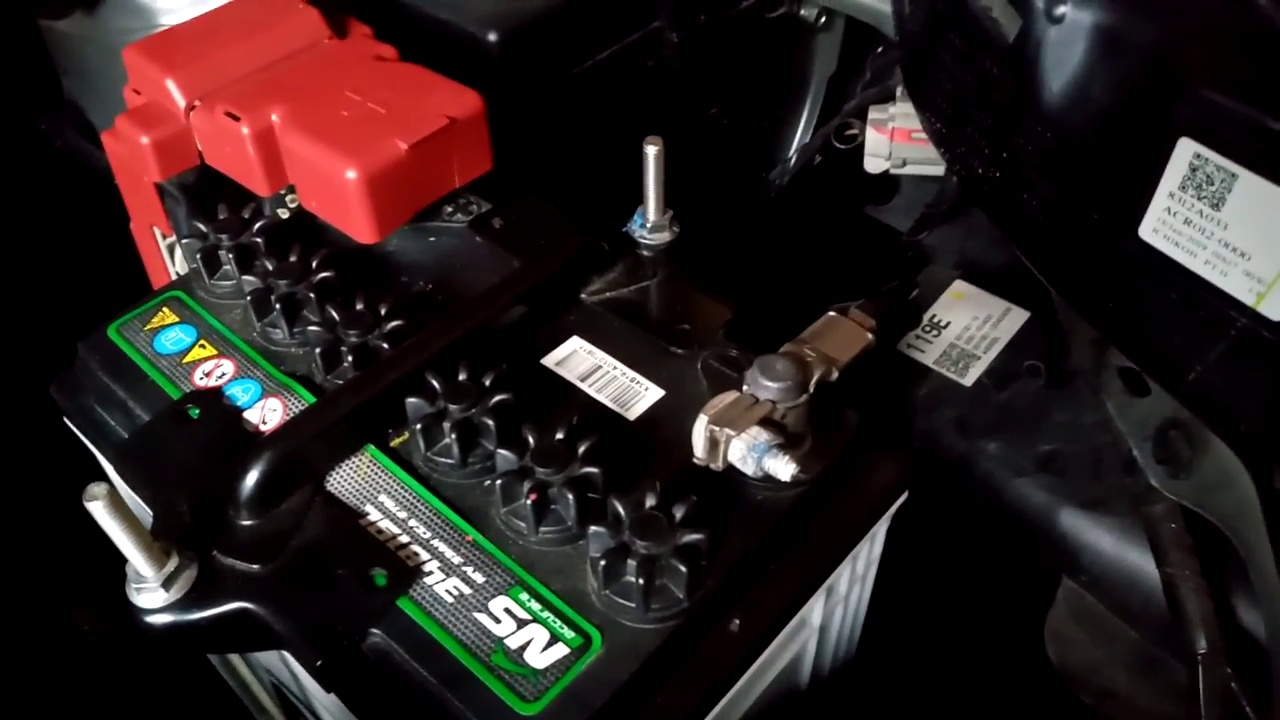battery: (75, 25, 913, 686)
neg_connected: (674, 269, 895, 485)
pos_connected: (99, 23, 489, 258)
